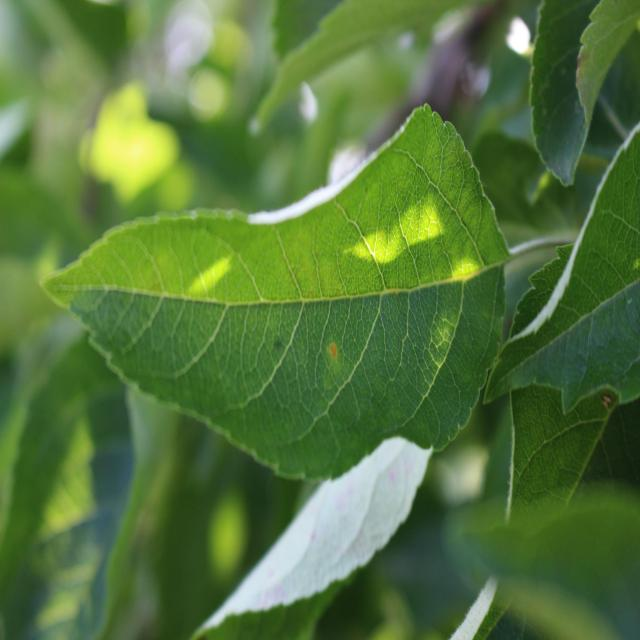Rust: (322, 325, 345, 377)
